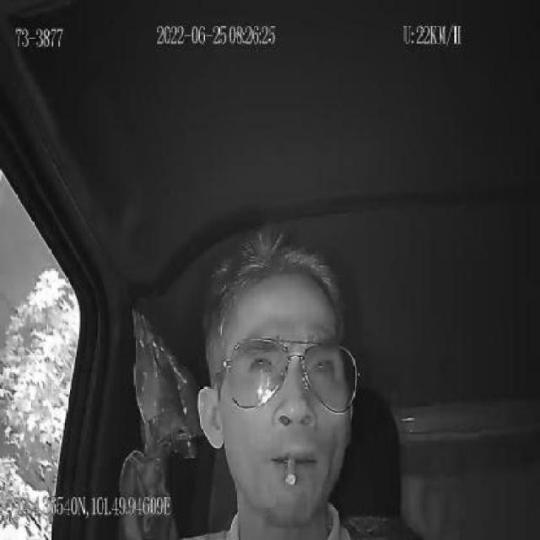smoking: (283, 451, 298, 491)
